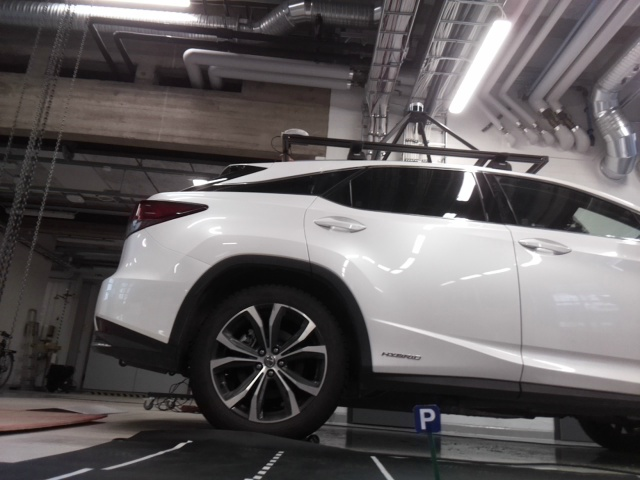Parking: (412, 406, 440, 431)
